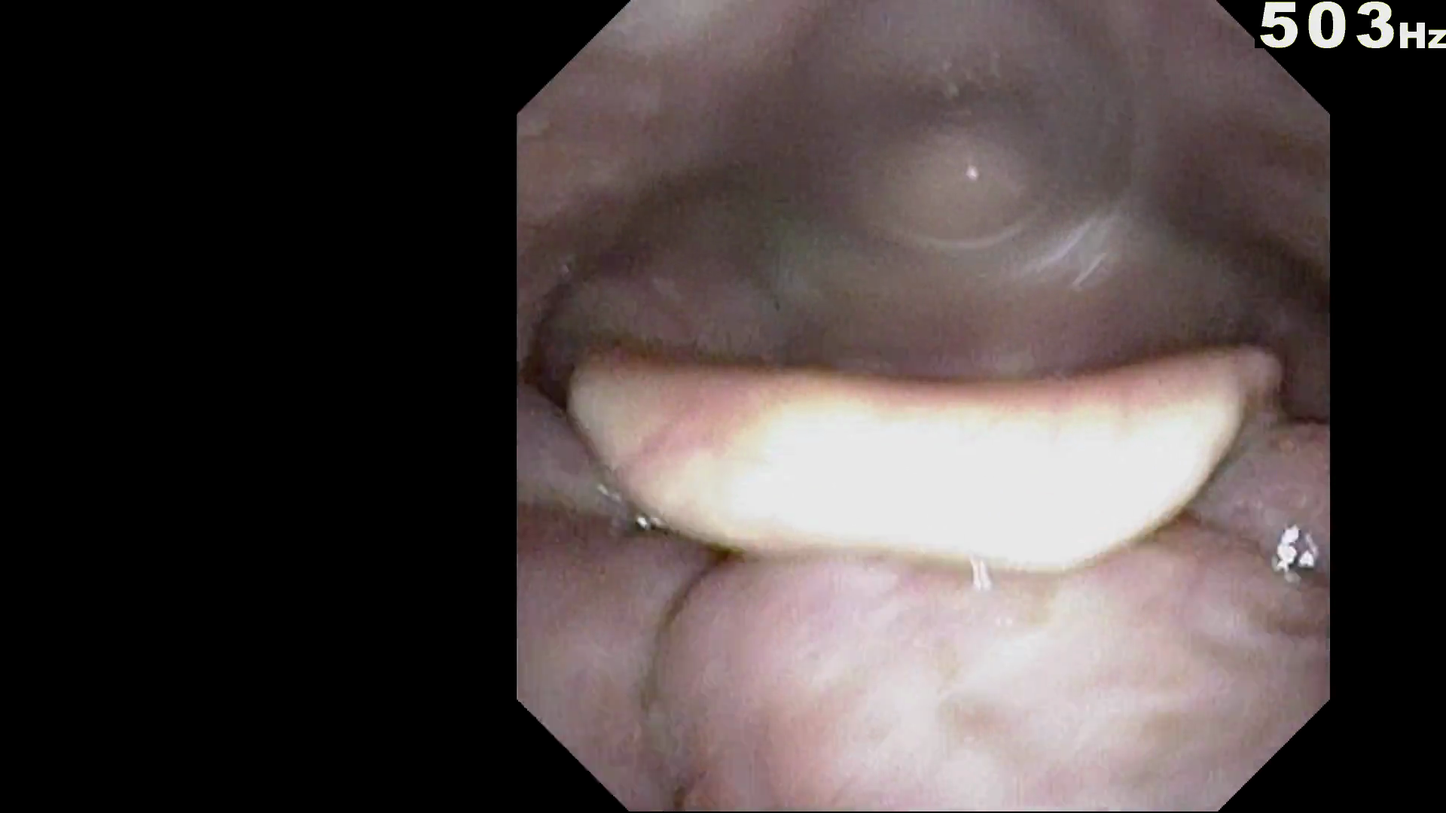epiglottis: (612, 344, 1228, 569)
